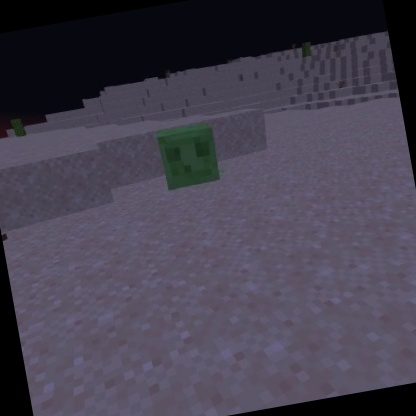slime: (154, 119, 224, 195)
